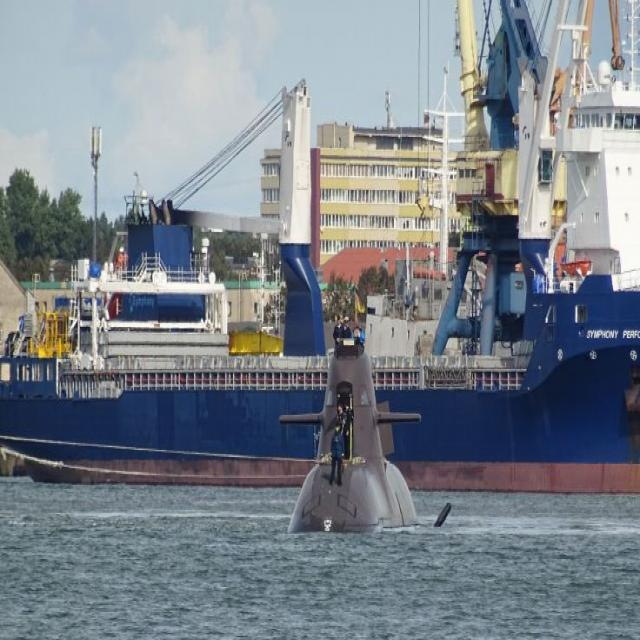submarine: (269, 313, 458, 531)
